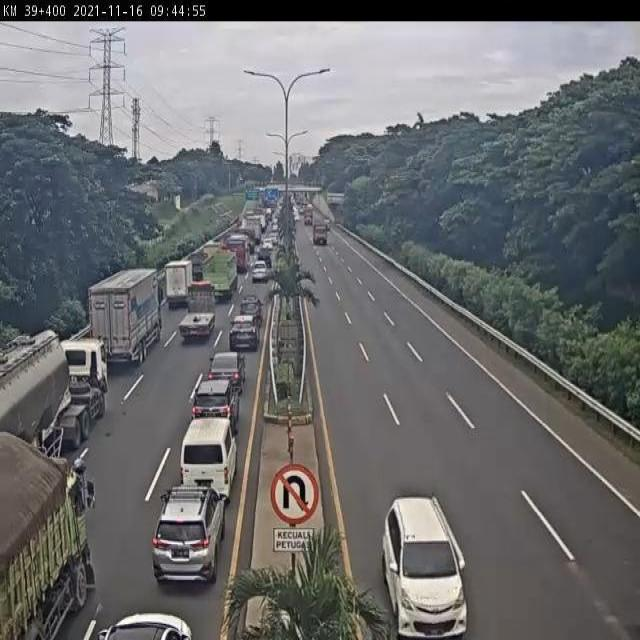Car: (380, 495, 469, 640), (151, 483, 228, 583), (92, 610, 194, 638), (190, 379, 241, 422), (207, 351, 245, 386), (229, 315, 259, 352), (251, 260, 269, 282), (261, 238, 274, 254)
Truck: (0, 430, 90, 640), (0, 330, 107, 442), (88, 269, 162, 367), (178, 282, 216, 342), (202, 252, 239, 298), (165, 259, 193, 307), (313, 220, 329, 246)
Van: (180, 416, 238, 491)
